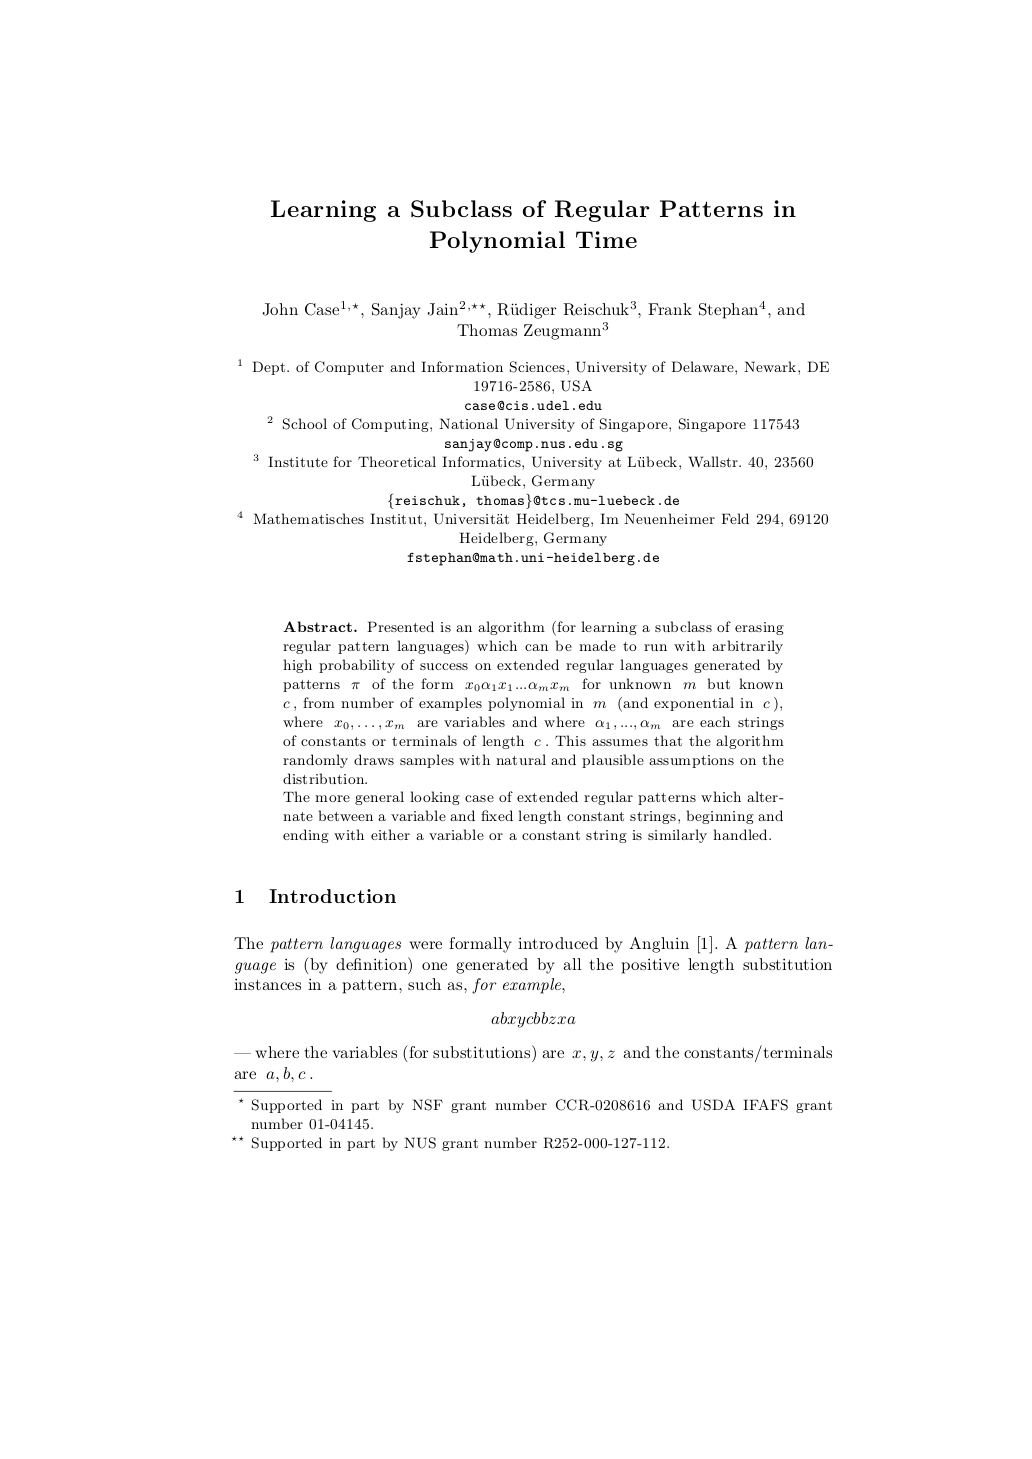formula: (491, 1011, 575, 1028)
